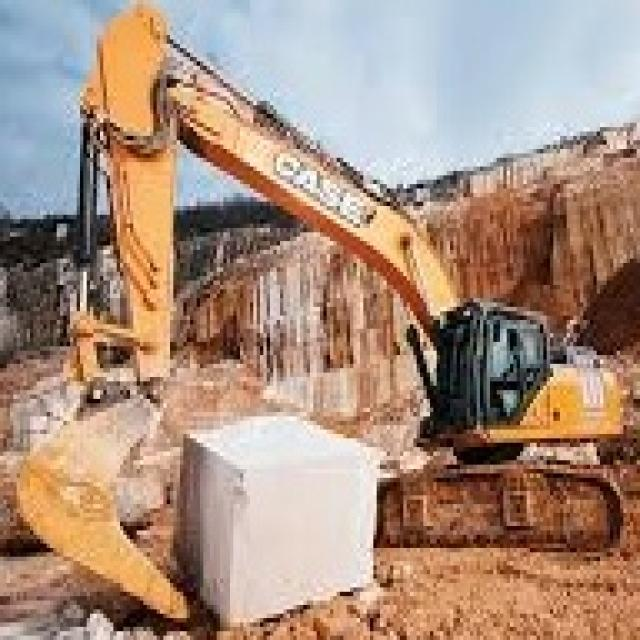excavator: (342, 268, 630, 570)
